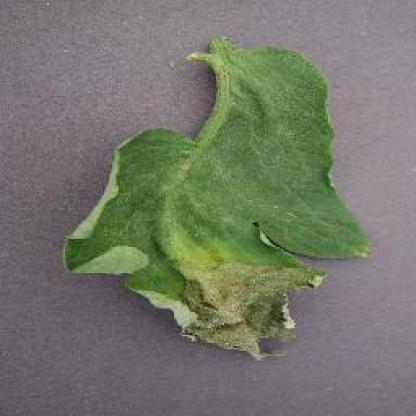bad leaf: (159, 251, 320, 354)
